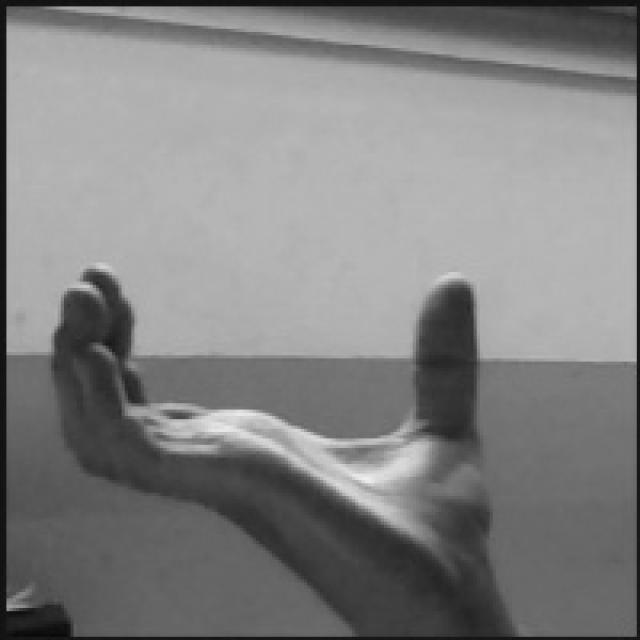space: (49, 267, 492, 632)
